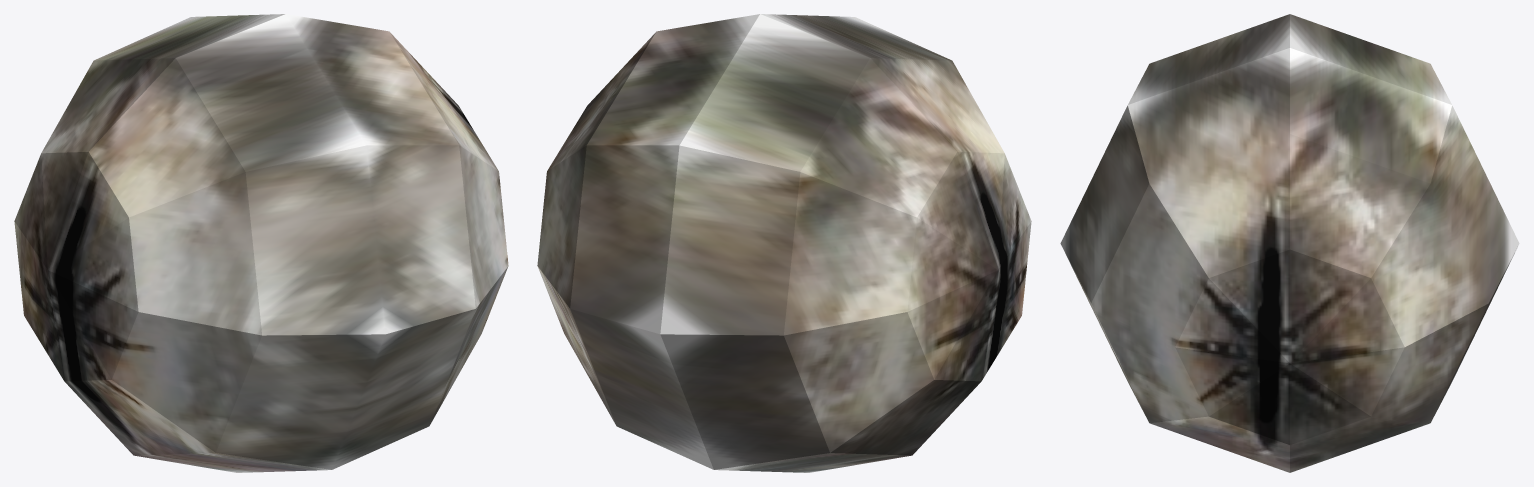
File: They live eyes.glb
The picture shows the model from 3 angles, left to right: view 1: azimuth 30°, elevation 25°; view 2: azimuth 150°, elevation 25°; view 3: azimuth 270°, elevation 25°; orthographic projection. The views are drawn at different scales.
Size of the model in its own units: 0.96 by 0.96 by 0.9662.
Materials: 1 (1 with a texture image).
